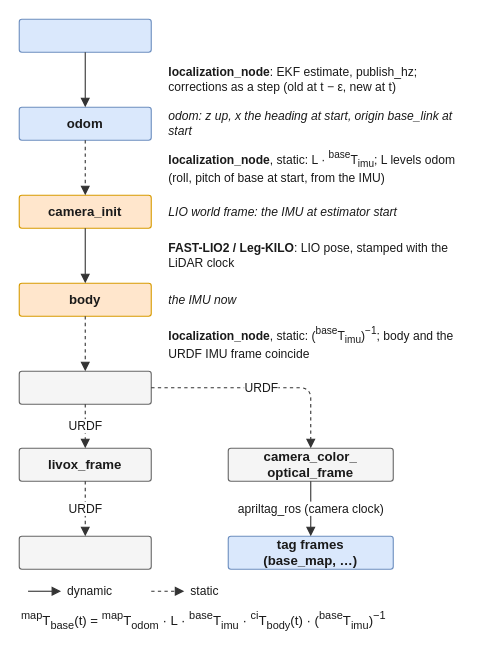
The diagram is 494 pixels wide and 655 high, and some of its shapes have lost their labels. The centre of each missing label's shape, as x and y in pixels:
base_link: the point at 84,387
livox_imu_frame: the point at 84,552
map: the point at 84,35
